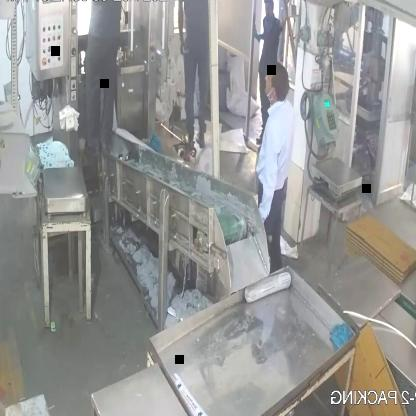no_glove: (253, 126, 281, 231), (175, 0, 187, 67)
